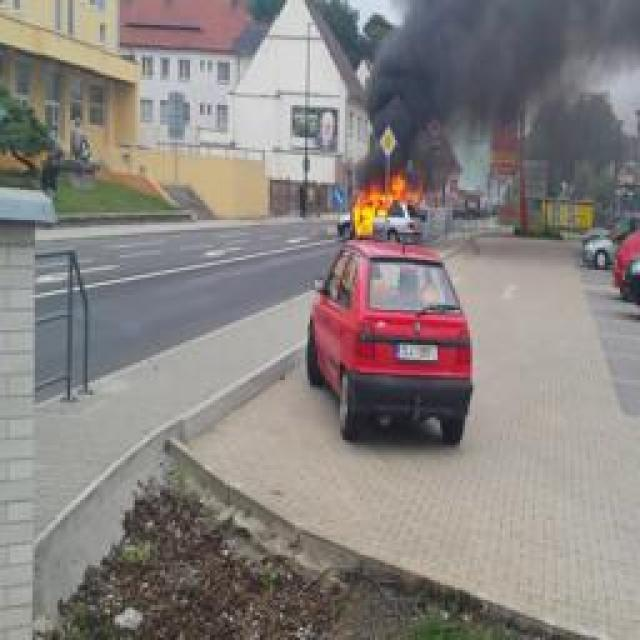Fire: (353, 170, 423, 236), (353, 184, 384, 237)
Smoke: (382, 0, 573, 175)
